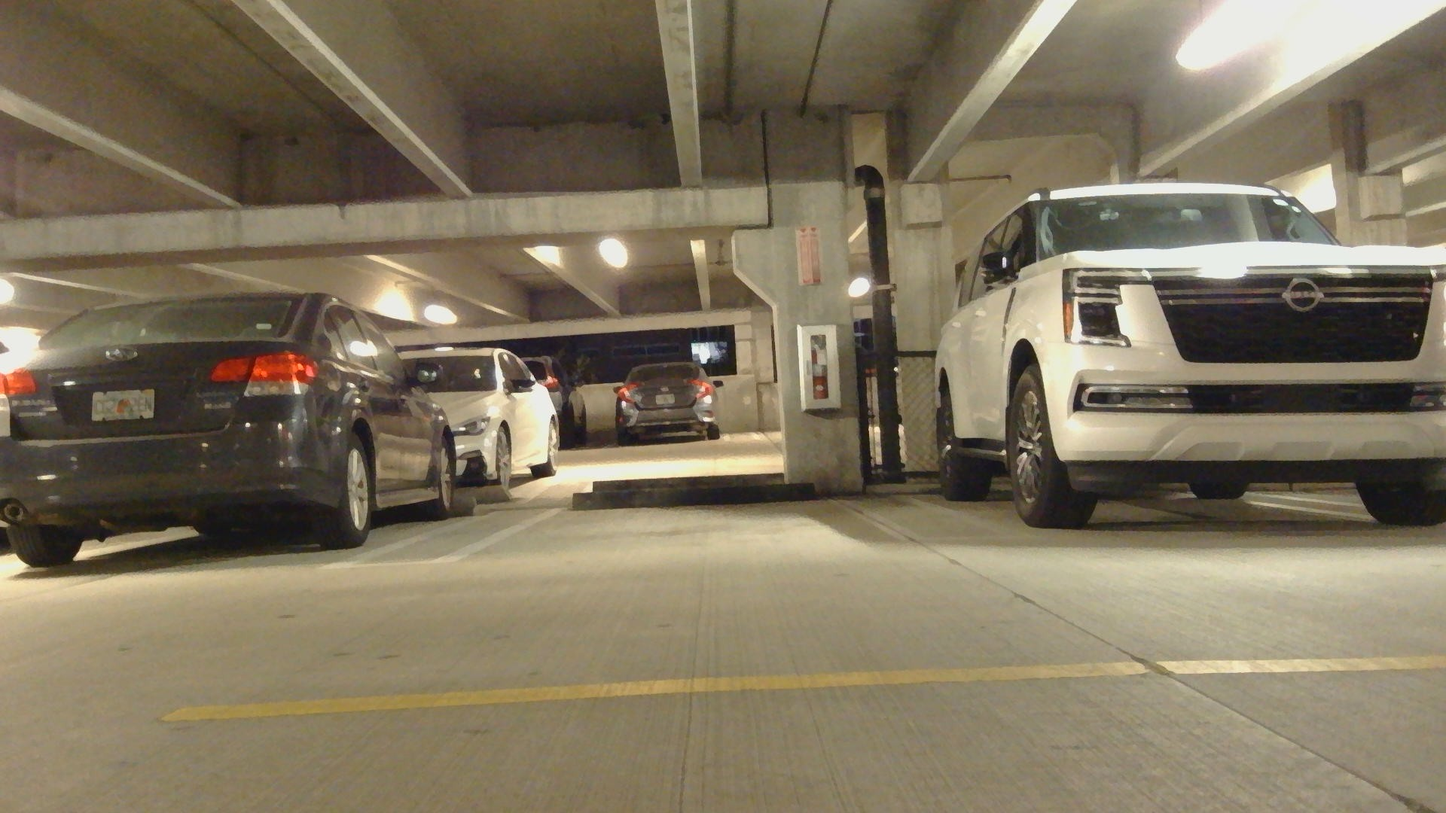empty_spot: (400, 487, 962, 557)
occupied_spot: (923, 179, 1445, 545), (0, 271, 477, 593)
